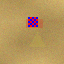structure: (28, 32, 46, 47)
